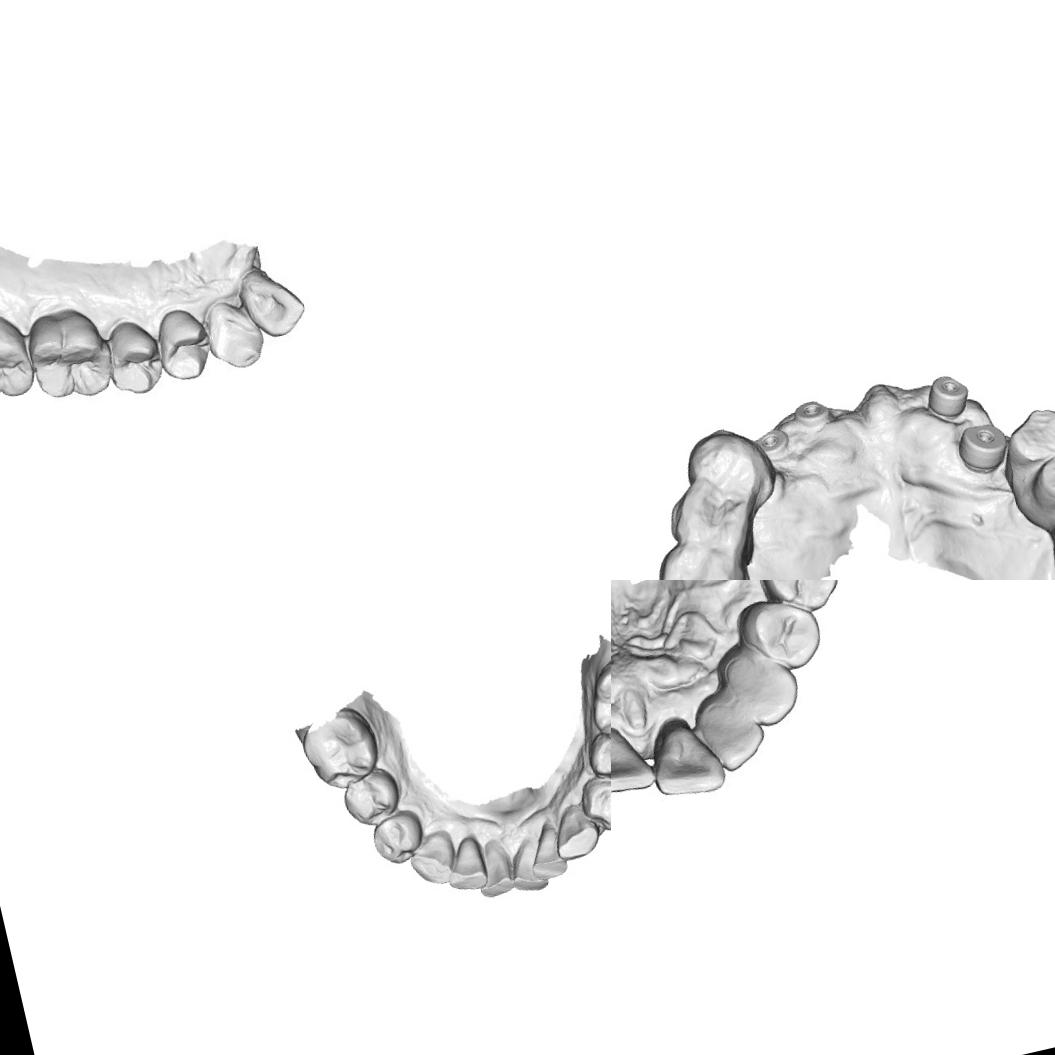canine: (723, 640, 807, 734), (198, 289, 269, 379), (404, 826, 464, 892), (546, 796, 604, 862)
implant: (952, 417, 1011, 477), (920, 370, 974, 421), (788, 394, 834, 433), (751, 424, 792, 460)
incisor: (644, 716, 728, 802), (694, 688, 770, 776), (237, 258, 312, 344), (611, 718, 656, 799), (520, 818, 572, 884), (438, 833, 492, 896), (470, 835, 520, 902), (503, 832, 552, 897)
molar: (22, 298, 116, 406), (296, 704, 382, 795), (644, 531, 764, 580), (0, 312, 36, 409), (579, 644, 611, 751)
premolar: (676, 416, 782, 514), (656, 472, 759, 568), (742, 593, 822, 671), (105, 316, 171, 400), (152, 303, 212, 383), (366, 804, 433, 872), (337, 764, 406, 829), (998, 401, 1055, 475), (763, 580, 845, 613), (1023, 433, 1055, 516), (575, 768, 611, 838), (582, 720, 611, 794)
